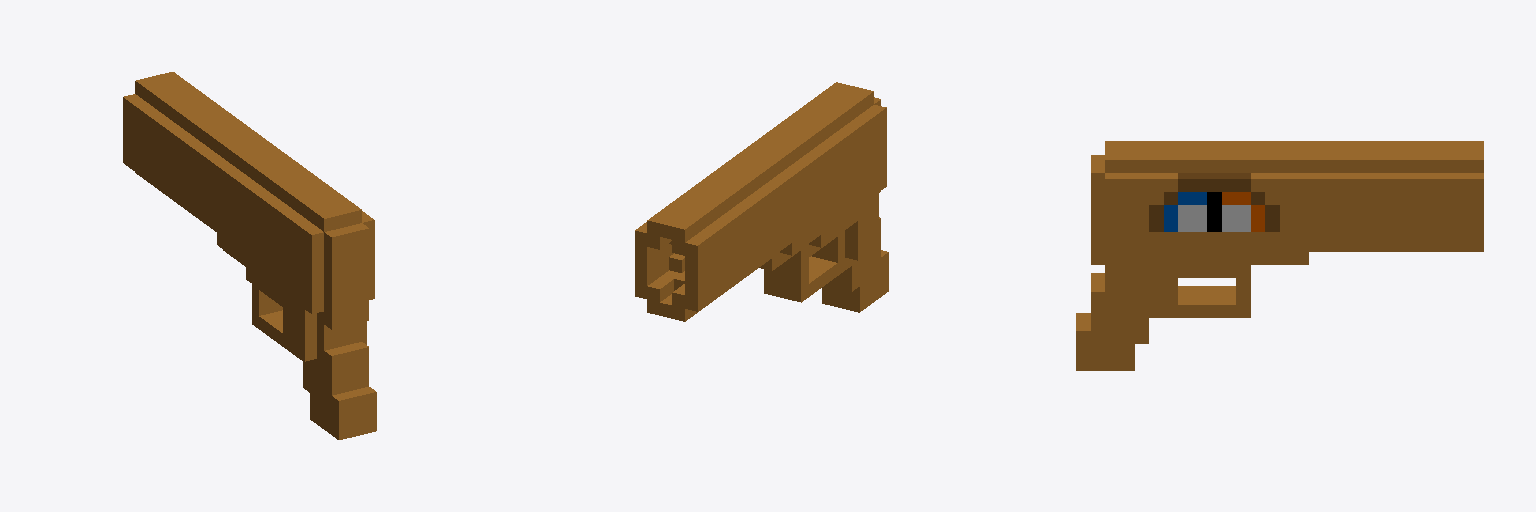
3 renders of one model, left to right at view 1: azimuth 30°, elevation 25°; view 2: azimuth 150°, elevation 25°; view 3: azimuth 270°, elevation 25°, orthographic.
Visible parts, largest first — view 1: object 1; view 2: object 1; view 3: object 1.
Part boxes in pixels (x1,y1,x2,y2): object 1: (123,72,376,439); object 1: (635,82,888,321); object 1: (1076,141,1483,370).
Bounding box in the file's own units: 0.5 × 1.6 × 2.8.
Materials: 1 (1 with a texture image).